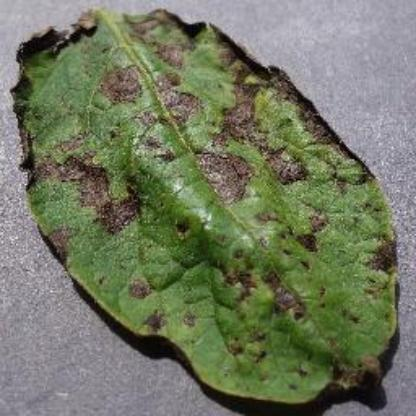Early-Blight: (8, 2, 416, 416)
